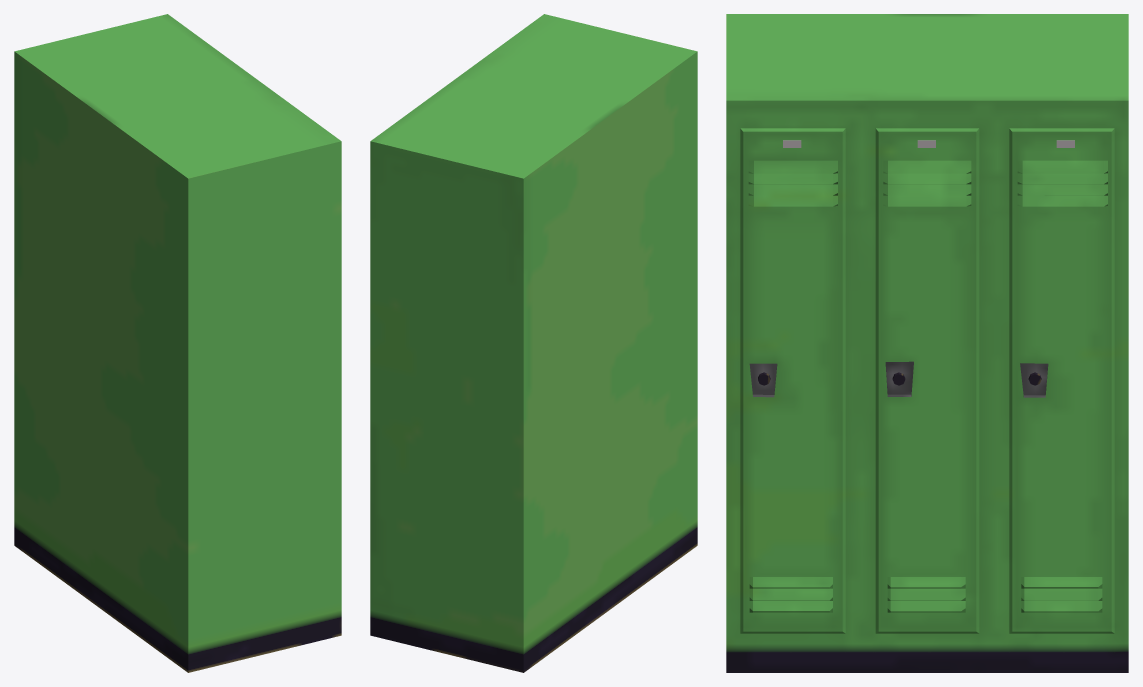
The model's file is School locker2.fbx.
3 renders of one model, left to right at view 1: azimuth 30°, elevation 25°; view 2: azimuth 150°, elevation 25°; view 3: azimuth 270°, elevation 25°, orthographic. The views are drawn at different scales.
Visible parts, largest first — view 1: School locker2; view 2: School locker2; view 3: School locker2.
Boxes of the visible parts, x1,y1,x2,y2 form: School locker2: [14, 14, 341, 672]; School locker2: [370, 14, 697, 672]; School locker2: [726, 14, 1128, 672].
Bounding box in the file's own units: 291 × 875 × 558.
Materials: 1 (1 with a texture image).
